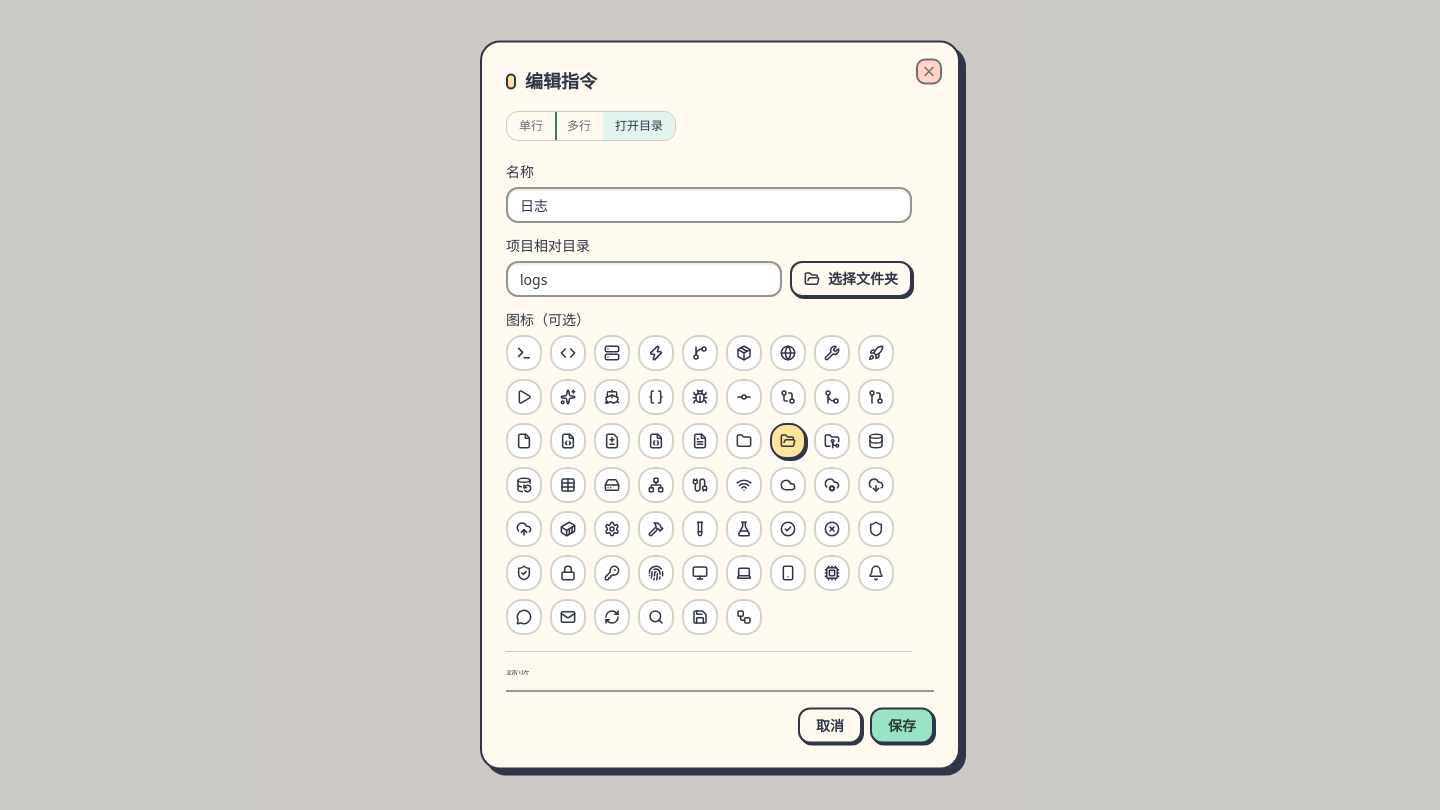
Test: CommandDialog › 选择文件夹 › 拒绝项目外目录 E:\git\EasyPack-other\logs 并保留原路径
This screenshot has width=1440, height=810.
Step 1. Click the button "选择文件夹" → (851, 278), box left=790, top=260, right=912, bottom=296
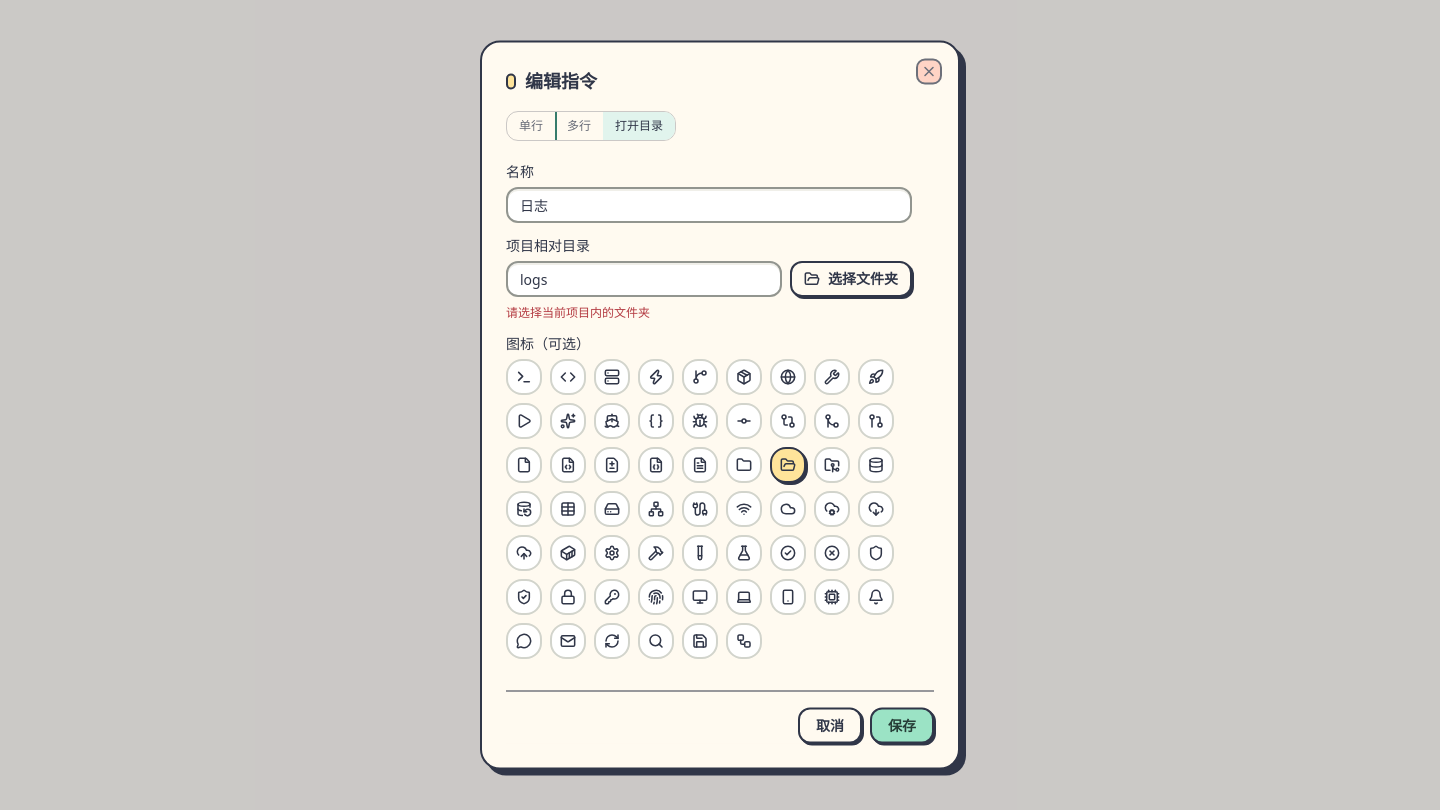
expect the field labelled "项目相对目录" holds "logs": met, box left=506, top=260, right=782, bottom=296
expect the message reads "请选择当前项目内的文件夹": met, box left=506, top=304, right=650, bottom=320
